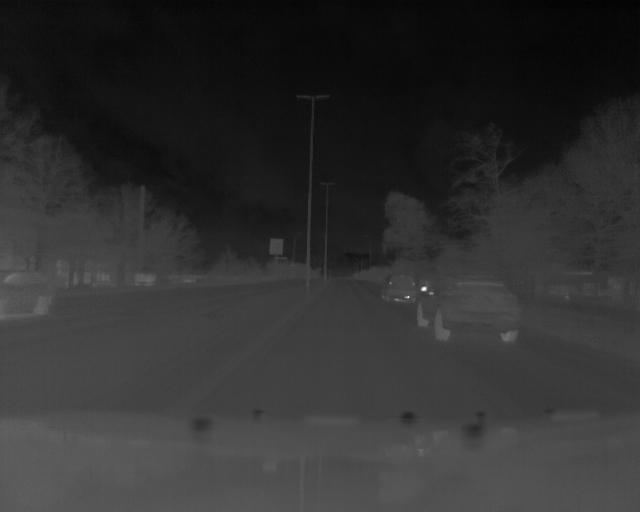car: (413, 278, 525, 346), (1, 269, 58, 319), (381, 270, 416, 303)
